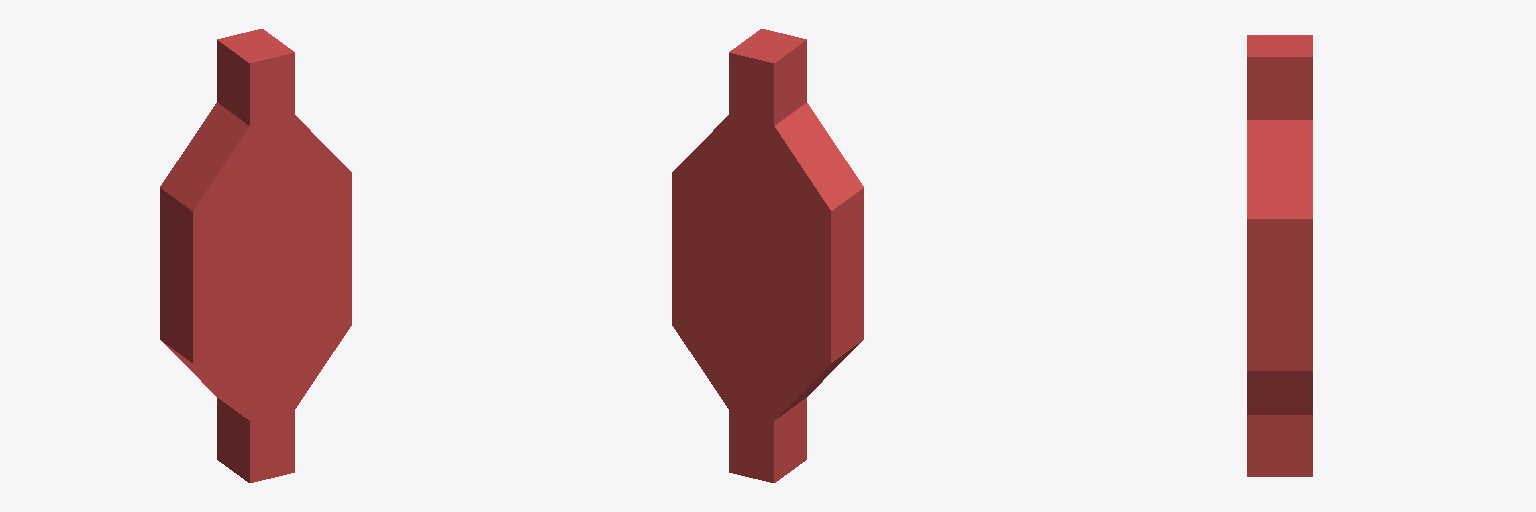
Rendered from chassis.obj.
3 renders of one model, left to right at view 1: azimuth 30°, elevation 25°; view 2: azimuth 150°, elevation 25°; view 3: azimuth 270°, elevation 25°, orthographic.
Parts seen in each view (by area): view 1: chassis; view 2: chassis; view 3: chassis.
Part boxes in pixels (x1,y1,x2,y2): chassis: (160,29,351,482); chassis: (672,29,863,482); chassis: (1247,35,1312,476).
Bounding box in the file's own units: 280 × 705 × 100.